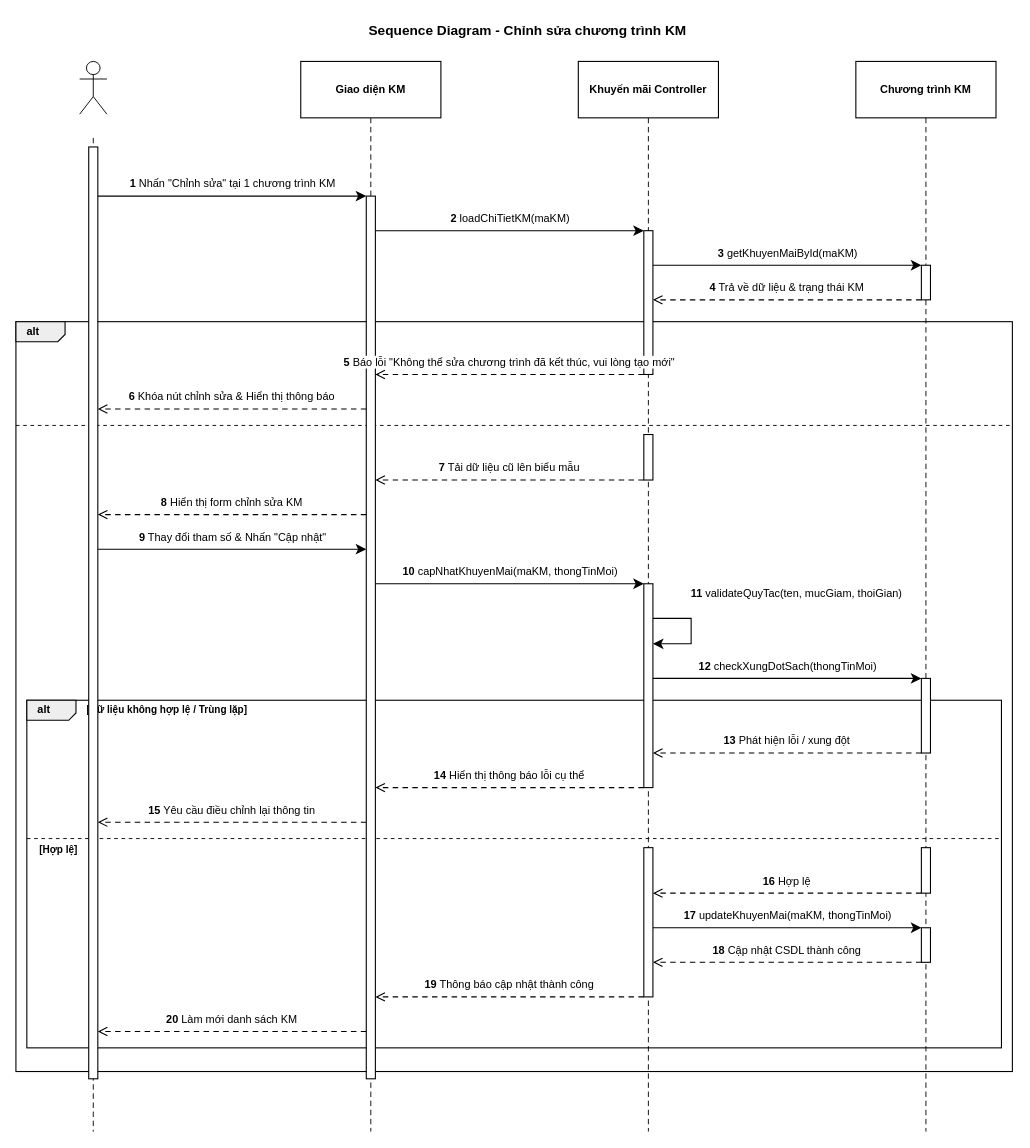
Some shapes in this 1030 by 1148 pixel diagram are drawn without their labels. The box of each missing label's shape, as (x1, y1, x2, y2) in pixels:
[Chương trình đã kết thúc]: (70, 323, 252, 339)
[Đang diễn ra / Sắp diễn ra]: (23, 428, 217, 444)
Quản lý: (79, 61, 107, 114)
